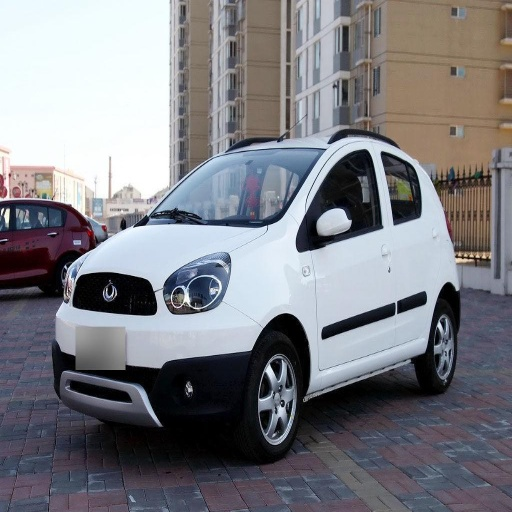front_bumper: (56, 260, 261, 426)
front_glass: (138, 151, 321, 227)
front_left_door: (308, 140, 395, 377)
